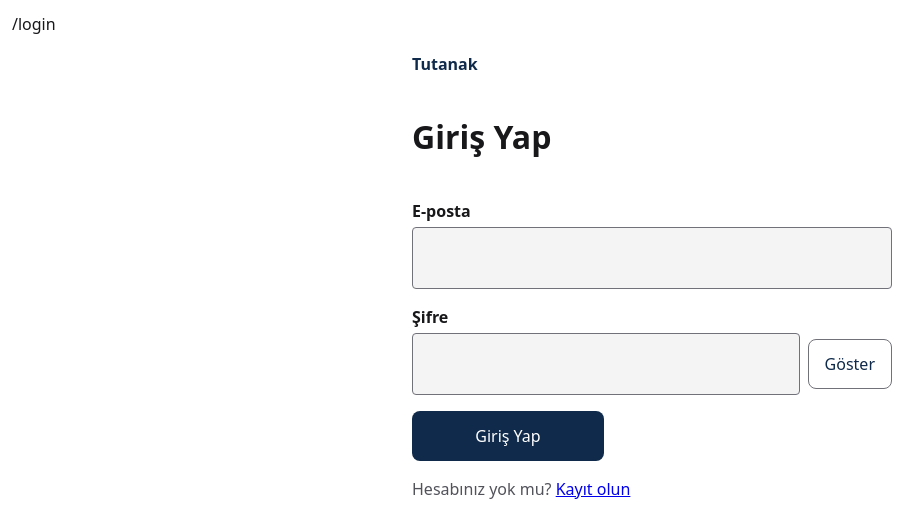
LoginPage › yukleniyor durumu (kriter 5) › istek surerken butonu ve form alanlarini devre disi birakir
In the field labelled "E-posta": (652, 258) [412,227,892,289], type "selin@ornek.com"
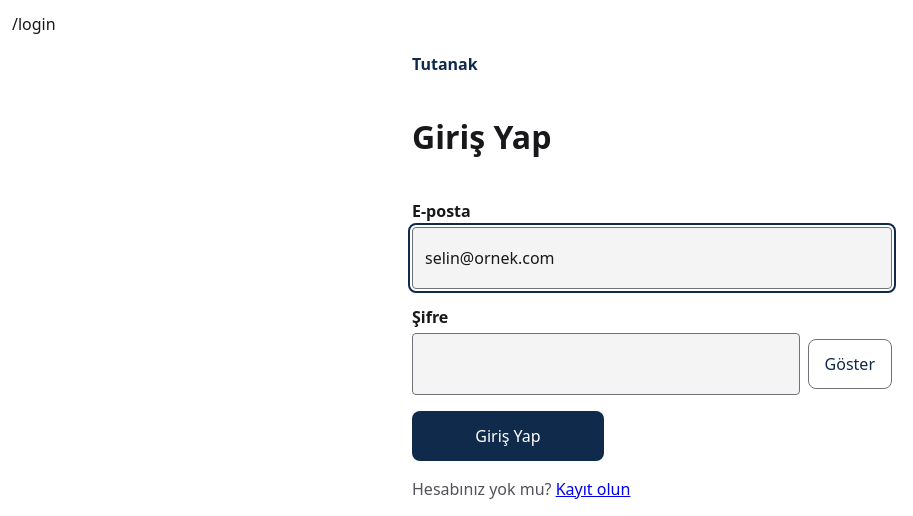
In the password field labelled "Şifre": (606, 364) [412,333,800,395], type "cok-gizli-8"
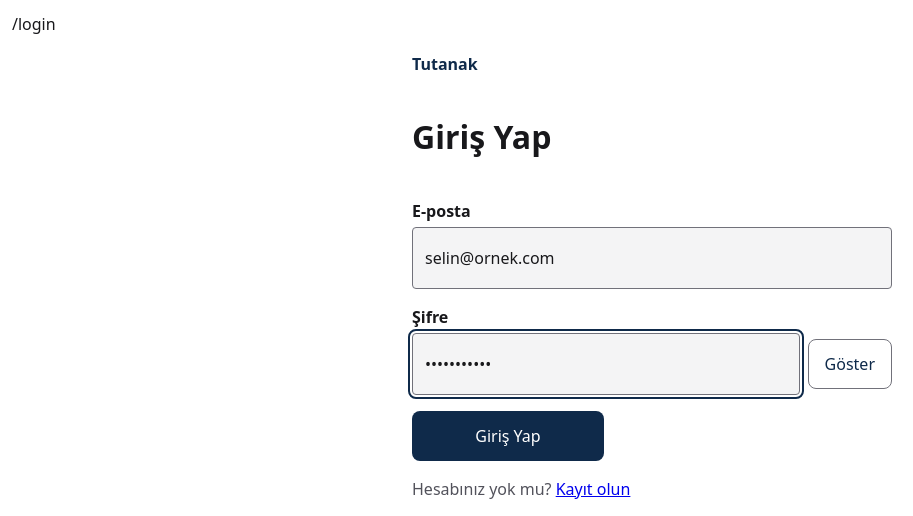
Click the button "Giriş Yap": click(508, 436) [412,411,604,461]
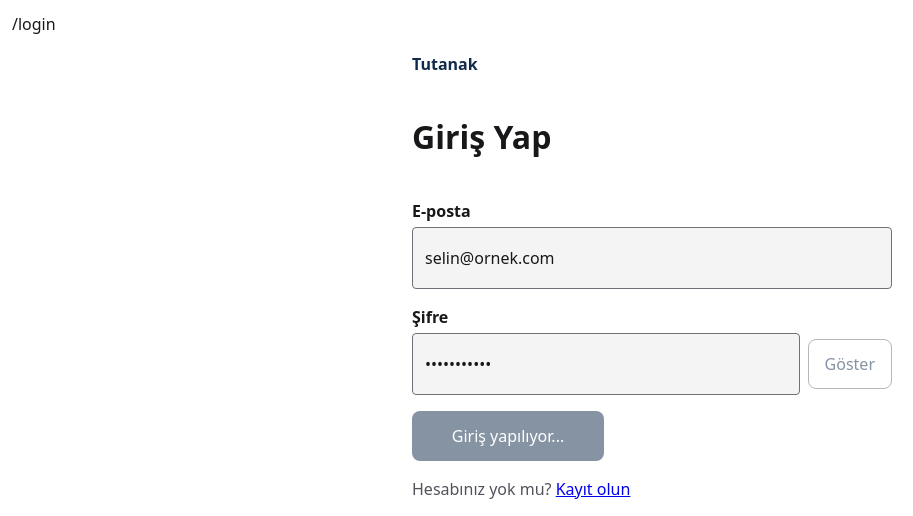
Expected: the field labelled "E-posta" is disabled, [412,227,892,289]
Now the button "Giriş yapılıyor..." is disabled, box [412,411,604,461]
